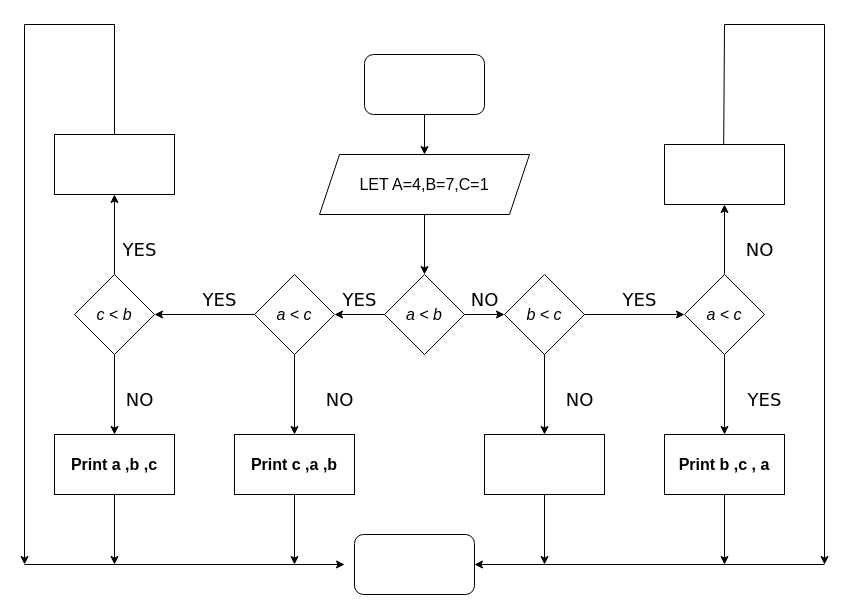
The diagram is 850 pixels wide and 612 high, and some of its shapes have lost their labels. The centre of each missing label's shape, as x and y in pixels:
"END" belongs at point (414, 564).
"Print a ,c ,b" belongs at point (114, 164).
"Print b ,a ,c" belongs at point (724, 174).
"Print c ,b ,a" belongs at point (544, 464).
"START" belongs at point (424, 84).
